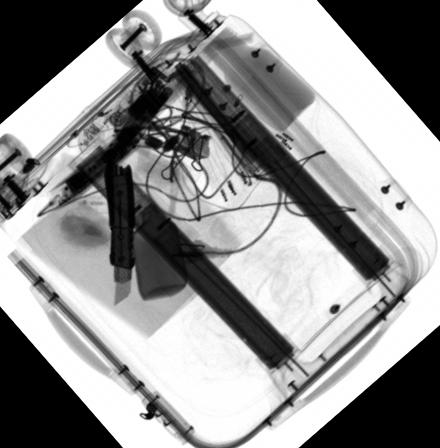Knife: (103, 163, 134, 307)
